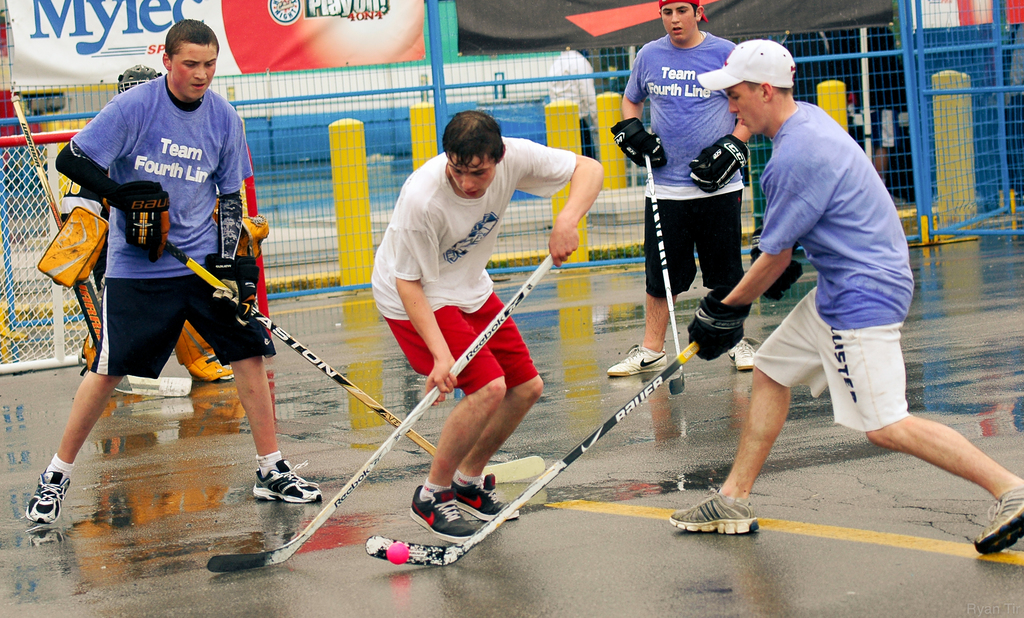Person: (26, 0, 1024, 554)
